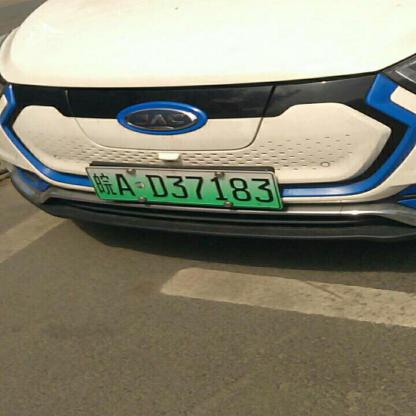lp: (86, 168, 282, 209)
